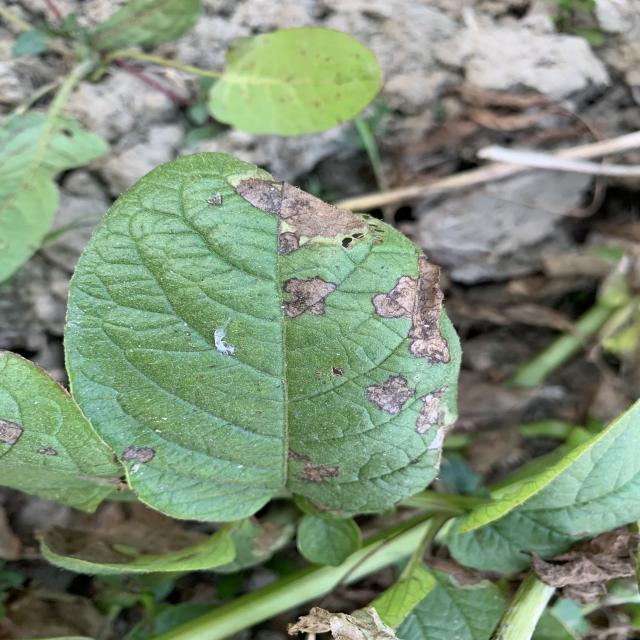lateblight: (227, 170, 370, 255), (372, 256, 450, 364), (415, 385, 452, 449), (282, 276, 337, 318), (365, 375, 417, 415), (288, 450, 340, 484), (122, 446, 155, 462)
